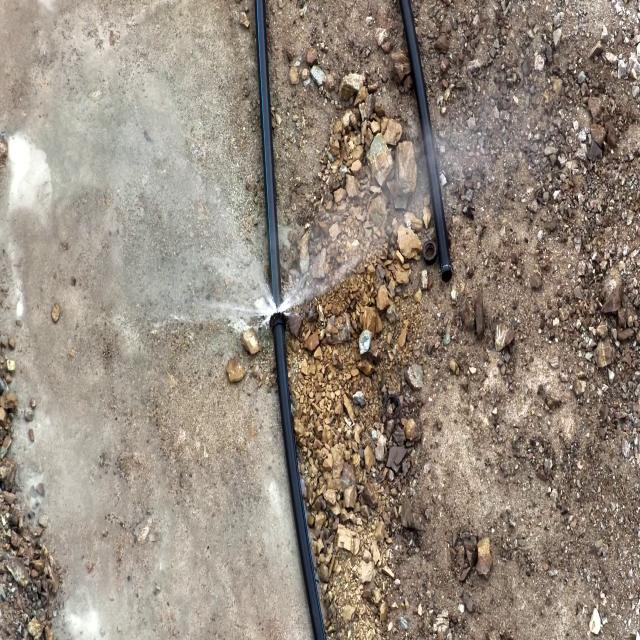leak: (189, 150, 462, 355)
